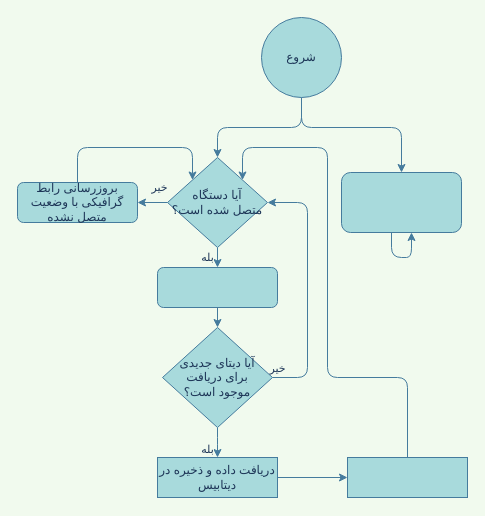
Some shapes in this 485 by 516 pixel diagram are drawn without their labels. Here are the shapes that lost their labels. From the top down, the centre of each, then its label:
At point 401,202: "ترسیم رابط گرافیکی".
At point 217,287: "بروزرسانی رابط گرافیکی با وضعیت متصل شده".
At point 407,477: "بروز رسانی رابط گرافیکی با دیتاهای دریافتی جدید".
